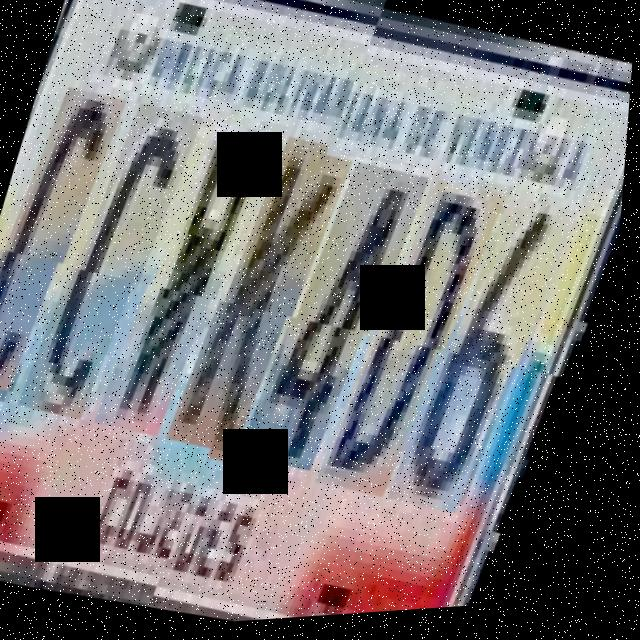4: (257, 155, 439, 482)
6: (408, 191, 588, 524)
C: (31, 105, 208, 439), (0, 89, 129, 411)
D: (334, 173, 515, 509)
K: (181, 140, 362, 474)
W: (108, 122, 284, 456)
